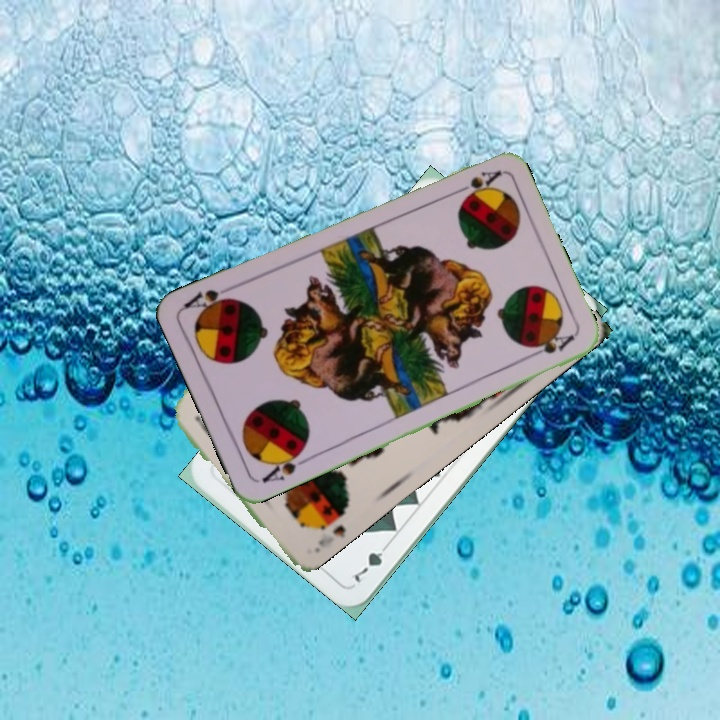G7: (350, 537, 393, 586)
SA: (258, 444, 312, 486), (446, 166, 503, 199)
SO: (309, 503, 349, 555)
